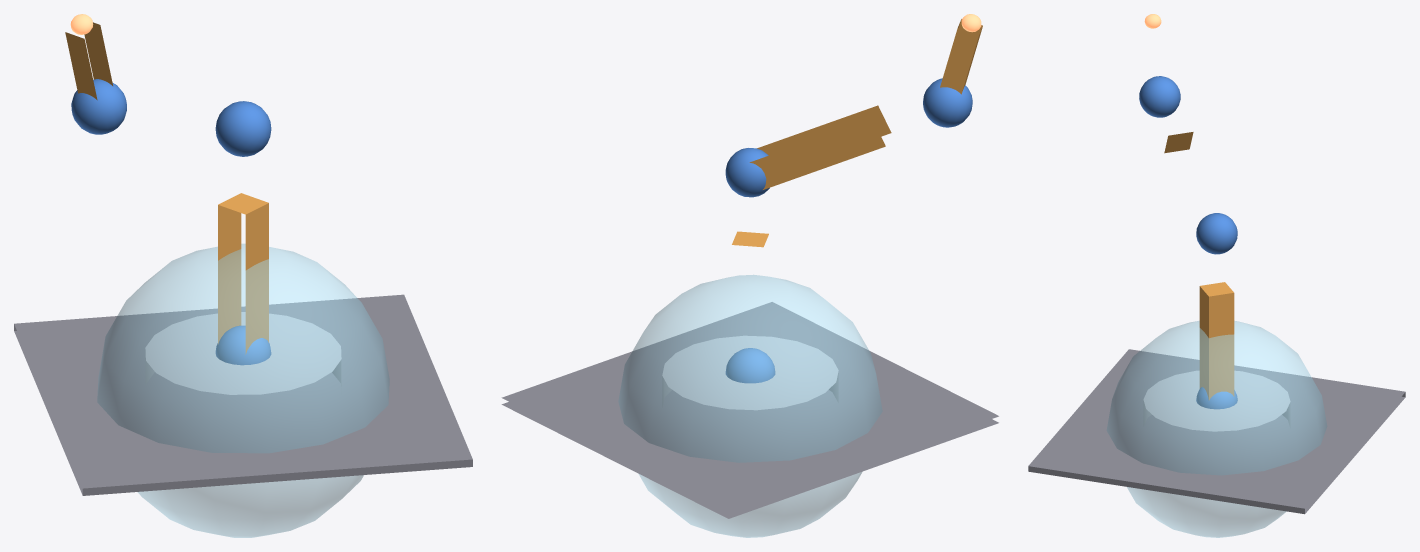
The model's file is arm.glb.
3 renders of one model, left to right at view 1: azimuth 30°, elevation 25°; view 2: azimuth 150°, elevation 25°; view 3: azimuth 270°, elevation 25°, orthographic. The views are drawn at different scales.
Parts seen in each view (by area): view 1: floor, dome, base, link1, joint2, joint3, link3, joint1; view 2: floor, dome, base, link2, joint3, joint2, link3, joint1; view 3: floor, dome, base, link1, joint3, joint2, joint1, link2.
Boxes of the visible parts, x1,y1,x2,y2 form: floor: [14, 294, 472, 495]; dome: [97, 243, 389, 537]; base: [145, 312, 341, 394]; link1: [218, 193, 268, 354]; joint2: [215, 101, 271, 156]; joint3: [71, 79, 126, 134]; link3: [65, 22, 112, 100]; joint1: [215, 325, 271, 365]; floor: [501, 302, 998, 518]; dome: [618, 274, 882, 537]; base: [662, 335, 838, 410]; link2: [749, 105, 891, 189]; joint3: [923, 78, 972, 127]; joint2: [725, 148, 769, 197]; link3: [940, 19, 982, 94]; joint1: [725, 348, 775, 383]; floor: [1028, 349, 1405, 514]; dome: [1106, 321, 1326, 537]; base: [1143, 370, 1290, 431]; link1: [1199, 282, 1234, 399]; joint3: [1139, 76, 1180, 117]; joint2: [1196, 213, 1237, 254]; joint1: [1196, 387, 1237, 409]; link2: [1164, 132, 1193, 153].
Bounding box in the file's own units: 3.08 × 3.95 × 3.08.
